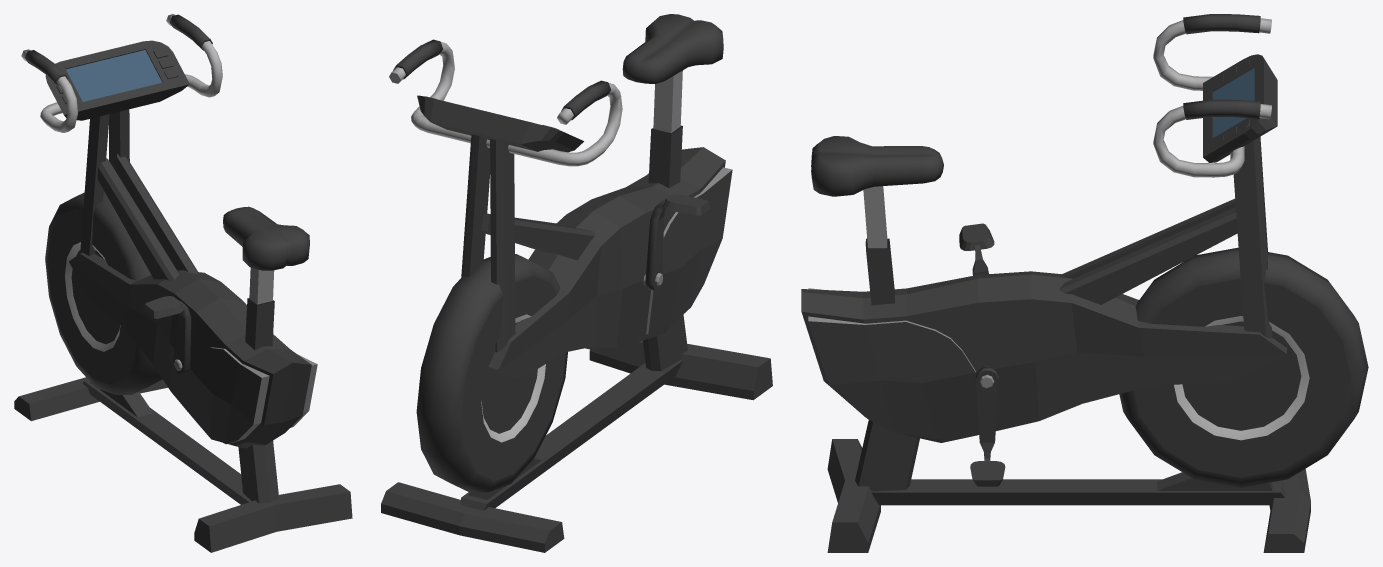
Rendered from exercise_bike.glb.
3 views of the same model, side by side, from view 1: azimuth 30°, elevation 25°; view 2: azimuth 150°, elevation 25°; view 3: azimuth 270°, elevation 25° (orthographic). The views are drawn at different scales.
Parts seen in each view (by area): view 1: Exercise_Bike, Exercise_Bike_Seat, Exercise_Bike_Pedal_A.001, Exercise_Bike_Pedal_B.001; view 2: Exercise_Bike, Exercise_Bike_Seat, Exercise_Bike_Pedal_A.001, Exercise_Bike_Pedal_B.001; view 3: Exercise_Bike, Exercise_Bike_Seat, Exercise_Bike_Pedal_A, Exercise_Bike_Pedal_B, Exercise_Bike_Pedal_B.001.
Boxes of the visible parts, x1,y1,x2,y2 form: Exercise_Bike: (14,14,352,552); Exercise_Bike_Seat: (223,206,309,304); Exercise_Bike_Pedal_A.001: (173,301,191,373); Exercise_Bike_Pedal_B.001: (142,296,183,318); Exercise_Bike: (381,39,772,552); Exercise_Bike_Seat: (622,14,723,133); Exercise_Bike_Pedal_A.001: (643,199,665,290); Exercise_Bike_Pedal_B.001: (663,194,710,215); Exercise_Bike: (801,14,1368,552); Exercise_Bike_Seat: (811,136,943,248); Exercise_Bike_Pedal_A: (975,367,998,461); Exercise_Bike_Pedal_B: (970,461,1005,486); Exercise_Bike_Pedal_B.001: (959,223,994,250).
Bounding box in the file's own units: 0.6127 × 1.39 × 1.58.
4 materials, 4 textured.
